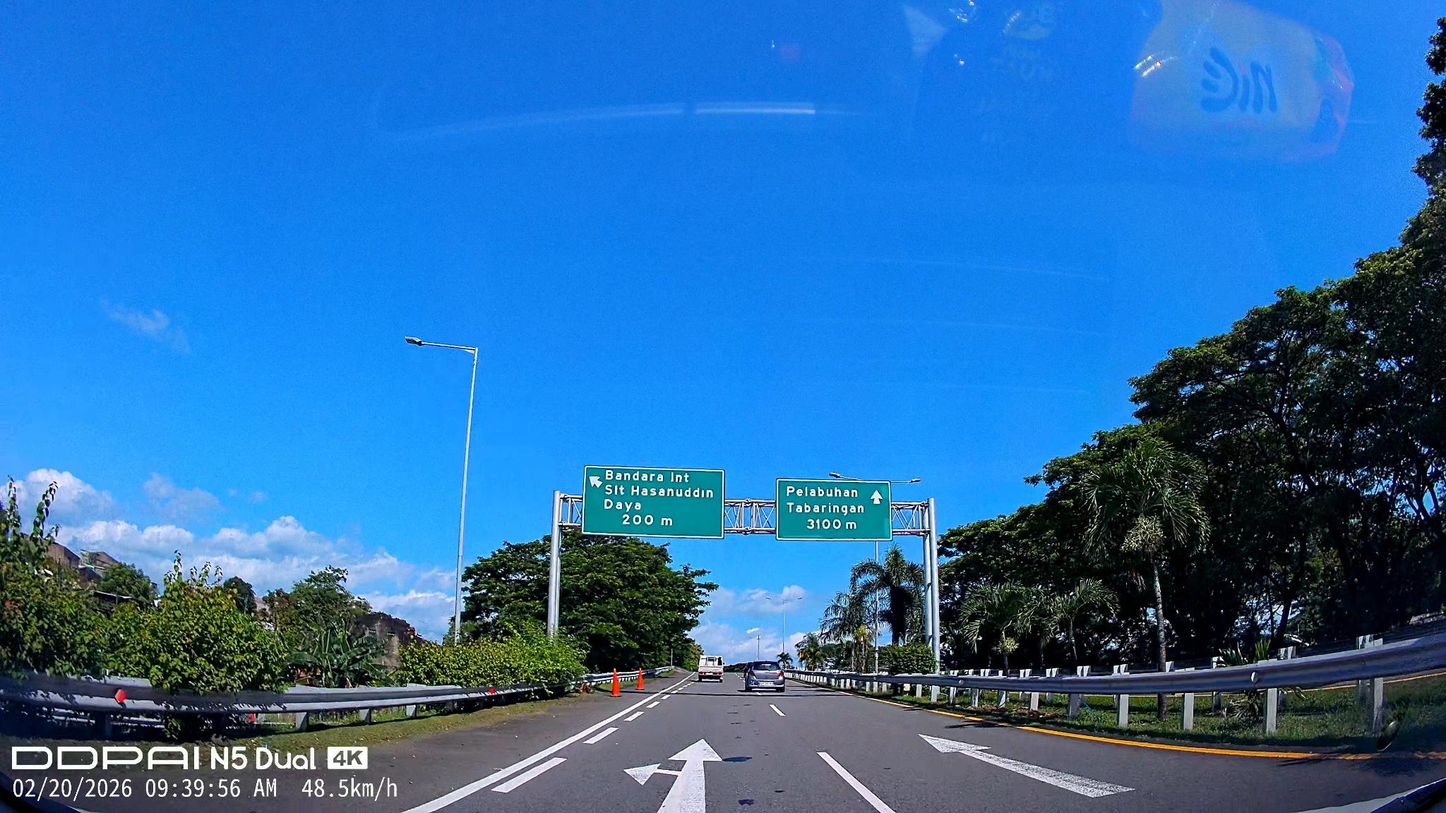rambu_teks: (582, 464, 725, 540), (775, 477, 894, 542)
